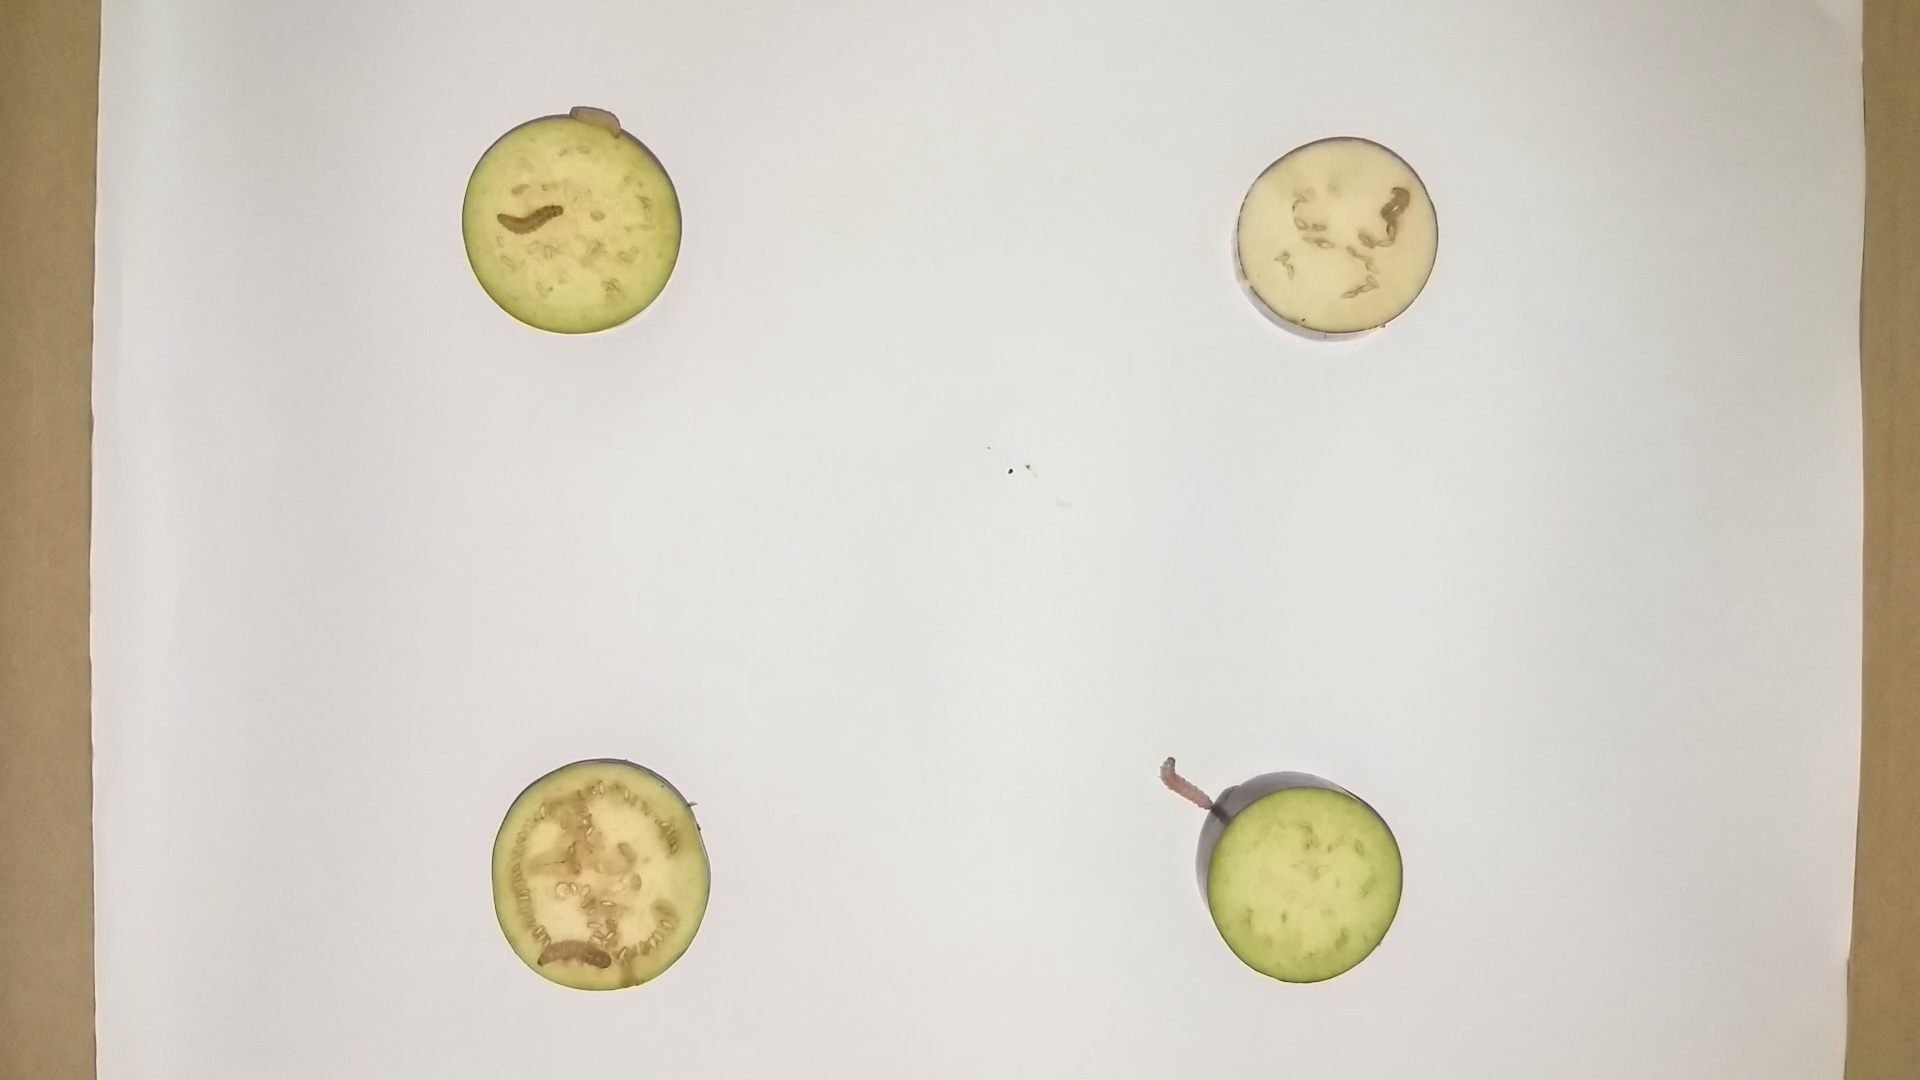efsb: (1147, 750, 1221, 820), (524, 931, 621, 976), (491, 200, 568, 243), (558, 95, 626, 141), (1377, 179, 1414, 237)
eggplant: (446, 107, 694, 345), (484, 754, 723, 1000), (1192, 757, 1406, 996), (1221, 121, 1447, 347)
